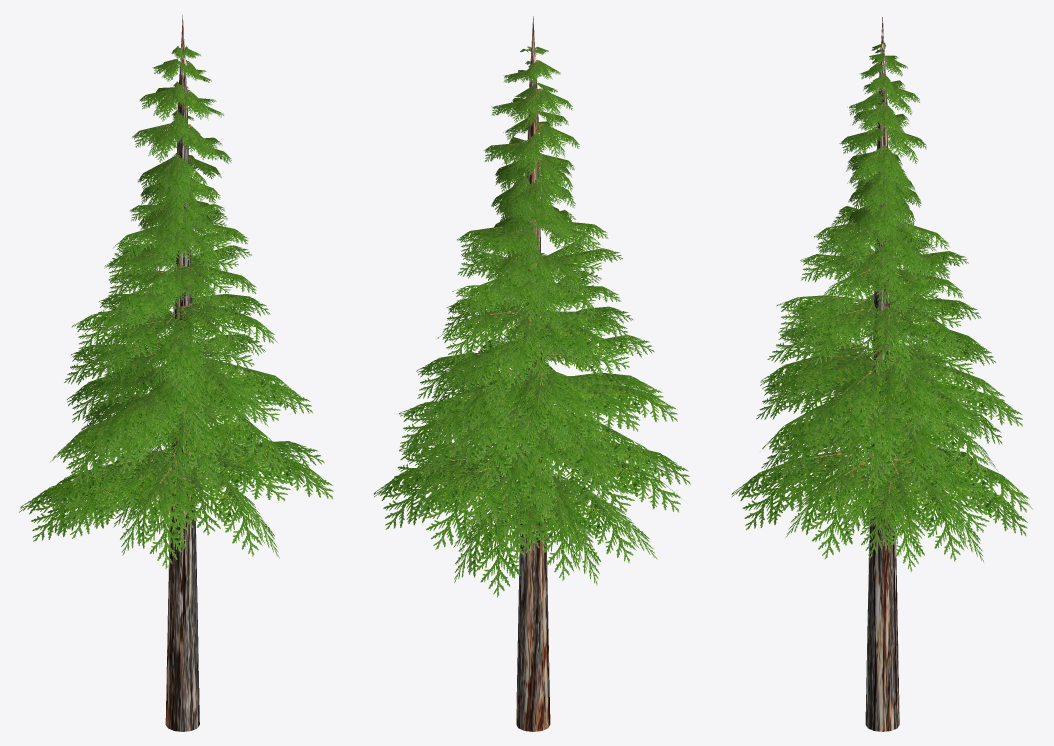
The model's file is tree2.glb.
The picture shows the model from 3 angles, left to right: view 1: azimuth 30°, elevation 25°; view 2: azimuth 150°, elevation 25°; view 3: azimuth 270°, elevation 25°; orthographic projection.
Size of the model in its own units: 4.03 by 9.5 by 3.8.
Materials: 2 (2 with a texture image).
